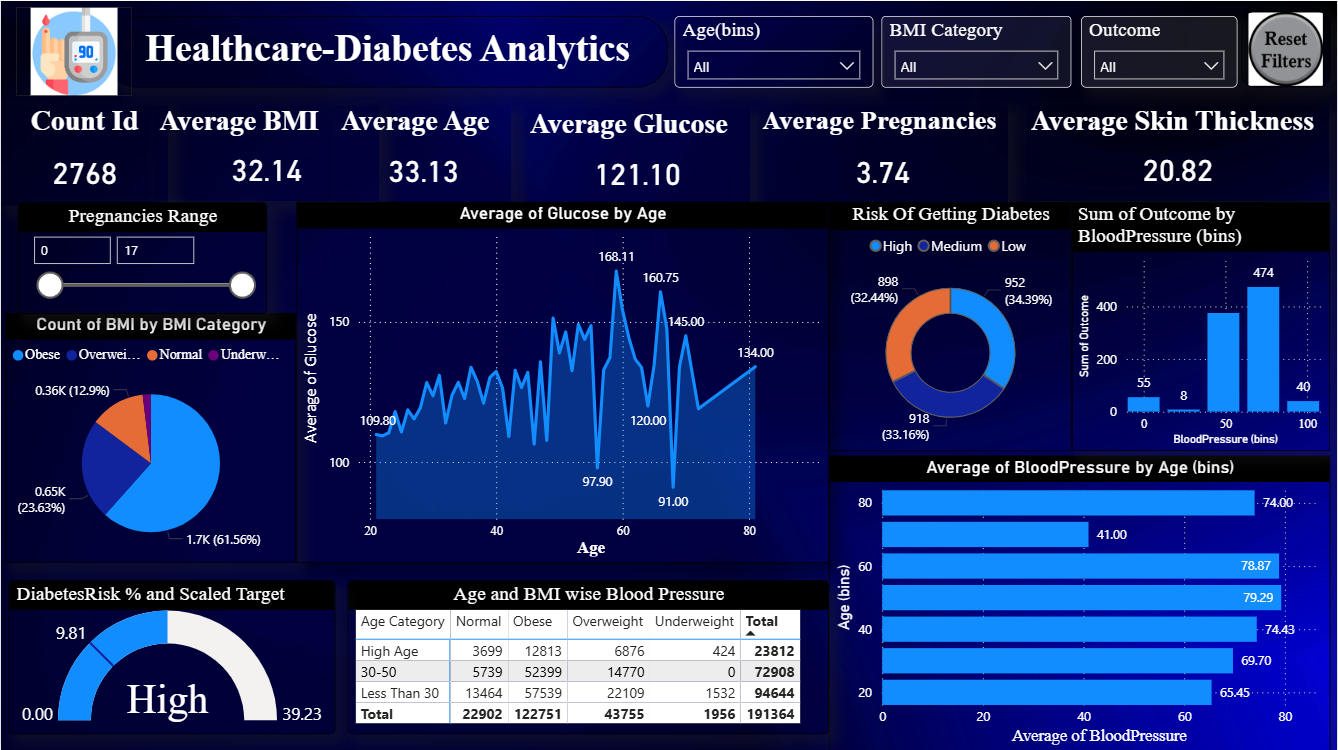

This screenshot's page, from the dashboard's own definition file:
{"tool":"powerbi","page":{"name":"Page 1","canvas":[1280,720],"ordinal":0},"visuals":[{"type":"card","title":"Count Id","fields":{"Values":["CountNonNull(Healthcare-Diabetes.Id)"]},"box":[0,99.2,160,97.2],"z":0},{"type":"card","title":"Average BMI","fields":{"Values":["Avg(Healthcare-Diabetes.BMI)"]},"box":[146.5,99.2,215.8,92.9],"z":1000},{"type":"card","title":"Average Glucose","fields":{"Values":["Avg(Healthcare-Diabetes.Glucose)"]},"box":[502.5,102.4,215.8,94.5],"z":2000},{"type":"card","title":"Average Pregnancies","fields":{"Values":["Avg(Healthcare-Diabetes.Pregnancies)"]},"box":[724.5,99.2,241,97.7],"z":3000},{"type":"card","title":"Average Skin Thickness","fields":{"Values":["Avg(Healthcare-Diabetes.SkinThickness)"]},"box":[982.9,99.2,291.4,92.9],"z":4000},{"type":"card","title":"Average Age","fields":{"Values":["Avg(Healthcare-Diabetes.Age)"]},"box":[321.3,99.2,168.5,94.5],"z":5000},{"type":"donutChart","title":"Risk Of Getting Diabetes","fields":{"Category":["Healthcare-Diabetes.Diabetes Risk"],"Y":["CountNonNull(Healthcare-Diabetes.Glucose)"]},"box":[793.9,192.4,232.9,239],"z":6000},{"type":"pieChart","fields":{"Y":["CountNonNull(Healthcare-Diabetes.BMI)"],"Category":["Healthcare-Diabetes.BMI Category"]},"box":[4.7,299.3,278.8,239.4],"z":7000},{"type":"clusteredBarChart","fields":{"Y":["Avg(Healthcare-Diabetes.BloodPressure)"],"Category":["Healthcare-Diabetes.Age (bins)"]},"box":[793.8,436.3,480.4,283.5],"z":8000},{"type":"lineChart","fields":{"Y":["Avg(Healthcare-Diabetes.Glucose)","select"],"Category":["Healthcare-Diabetes.Age"]},"box":[283.5,192.4,510.4,346.3],"z":9000},{"type":"pivotTable","title":"Age and BMI wise Blood Pressure","fields":{"Values":["Sum(Healthcare-Diabetes.BloodPressure)"],"Rows":["Healthcare-Diabetes.Age Category"],"Columns":["Healthcare-Diabetes.BMI Category"]},"box":[332.3,554.4,461.5,148.1],"z":10000},{"type":"slicer","title":"BMI Category","fields":{"Values":["Healthcare-Diabetes.BMI Category"]},"box":[844.6,14.2,182.3,68.9],"z":11000},{"type":"slicer","title":"Age(bins)","fields":{"Values":["Healthcare-Diabetes.Age (bins)"]},"box":[646.1,14.2,190.4,68.9],"z":12000},{"type":"slicer","title":"Pregnancies Range","fields":{"Values":["Healthcare-Diabetes.Pregnancies"]},"box":[15.8,192.2,239.4,107.1],"z":13000},{"type":"slicer","title":"Outcome","fields":{"Values":["Healthcare-Diabetes.Outcome"]},"box":[1034.9,14.2,149.9,68.9],"z":14000},{"type":"gauge","fields":{"Y":["Healthcare-Diabetes.DiabetesRisk %"],"TargetValue":["Healthcare-Diabetes.Scaled Target"]},"box":[7.9,554.4,313.4,148.1],"z":15000},{"type":"clusteredColumnChart","fields":{"Category":["Healthcare-Diabetes.BloodPressure (bins)"],"Y":["Sum(Healthcare-Diabetes.Outcome)"]},"box":[1026.8,192.4,247.1,239],"z":16000},{"type":"textbox","title":"Healthcare-Diabetes Analytics","box":[101.3,14.2,538.7,68.9],"z":17000},{"type":"image","box":[14.2,6.1,111.4,85.1],"z":18000},{"type":"image","box":[1188.9,10.1,85.1,72.9],"z":19000}]}

Visuals, with their boxes in screenshot pixels (x1, y1, x2, y2), scaled from the page's 1280x720 canvas onto the 1338x750 screenshot:
"Count Id" card: (x1=0, y1=103, x2=167, y2=205)
"Average BMI" card: (x1=153, y1=103, x2=379, y2=200)
"Average Glucose" card: (x1=525, y1=107, x2=751, y2=205)
"Average Pregnancies" card: (x1=757, y1=103, x2=1009, y2=205)
"Average Skin Thickness" card: (x1=1027, y1=103, x2=1332, y2=200)
"Average Age" card: (x1=336, y1=103, x2=512, y2=202)
"Risk Of Getting Diabetes" donutChart: (x1=830, y1=200, x2=1073, y2=449)
pieChart - CountNonNull(Healthcare-Diabetes.BMI) x Healthcare-Diabetes.BMI Category: (x1=5, y1=312, x2=296, y2=561)
clusteredBarChart - Avg(Healthcare-Diabetes.BloodPressure) x Healthcare-Diabetes.Age (bins): (x1=830, y1=454, x2=1332, y2=749)
lineChart - Avg(Healthcare-Diabetes.Glucose) x select: (x1=296, y1=200, x2=830, y2=561)
"Age and BMI wise Blood Pressure" pivotTable: (x1=347, y1=578, x2=830, y2=732)
"BMI Category" slicer: (x1=883, y1=15, x2=1073, y2=87)
"Age(bins)" slicer: (x1=675, y1=15, x2=874, y2=87)
"Pregnancies Range" slicer: (x1=17, y1=200, x2=267, y2=312)
"Outcome" slicer: (x1=1082, y1=15, x2=1238, y2=87)
gauge - Healthcare-Diabetes.DiabetesRisk % x Healthcare-Diabetes.Scaled Target: (x1=8, y1=578, x2=336, y2=732)
clusteredColumnChart - Healthcare-Diabetes.BloodPressure (bins) x Sum(Healthcare-Diabetes.Outcome): (x1=1073, y1=200, x2=1332, y2=449)
"Healthcare-Diabetes Analytics" textbox: (x1=106, y1=15, x2=669, y2=87)
image: (x1=15, y1=6, x2=131, y2=95)
image: (x1=1243, y1=11, x2=1332, y2=86)
